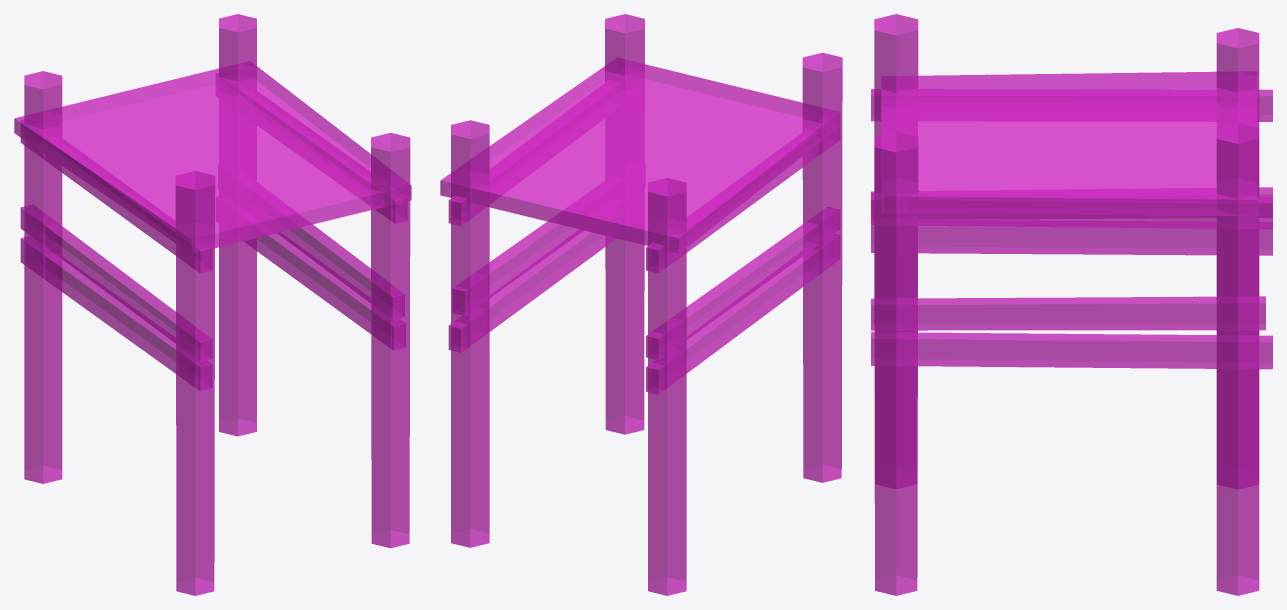
The model's file is SM_Bld_Dock_Wood_Straight_01_Collision.fbx.
The picture shows the model from 3 angles, left to right: view 1: azimuth 30°, elevation 25°; view 2: azimuth 150°, elevation 25°; view 3: azimuth 270°, elevation 25°; orthographic projection. The views are drawn at different scales.
Visible parts, largest first — view 1: SM_Bld_Dock_Wood_Straight_01_Collision; view 2: SM_Bld_Dock_Wood_Straight_01_Collision; view 3: SM_Bld_Dock_Wood_Straight_01_Collision.
Boxes of the visible parts, x1,y1,x2,y2 form: SM_Bld_Dock_Wood_Straight_01_Collision: [14, 14, 411, 595]; SM_Bld_Dock_Wood_Straight_01_Collision: [440, 14, 842, 595]; SM_Bld_Dock_Wood_Straight_01_Collision: [871, 14, 1272, 595].
Bounding box in the file's own units: 283 × 466 × 374.
